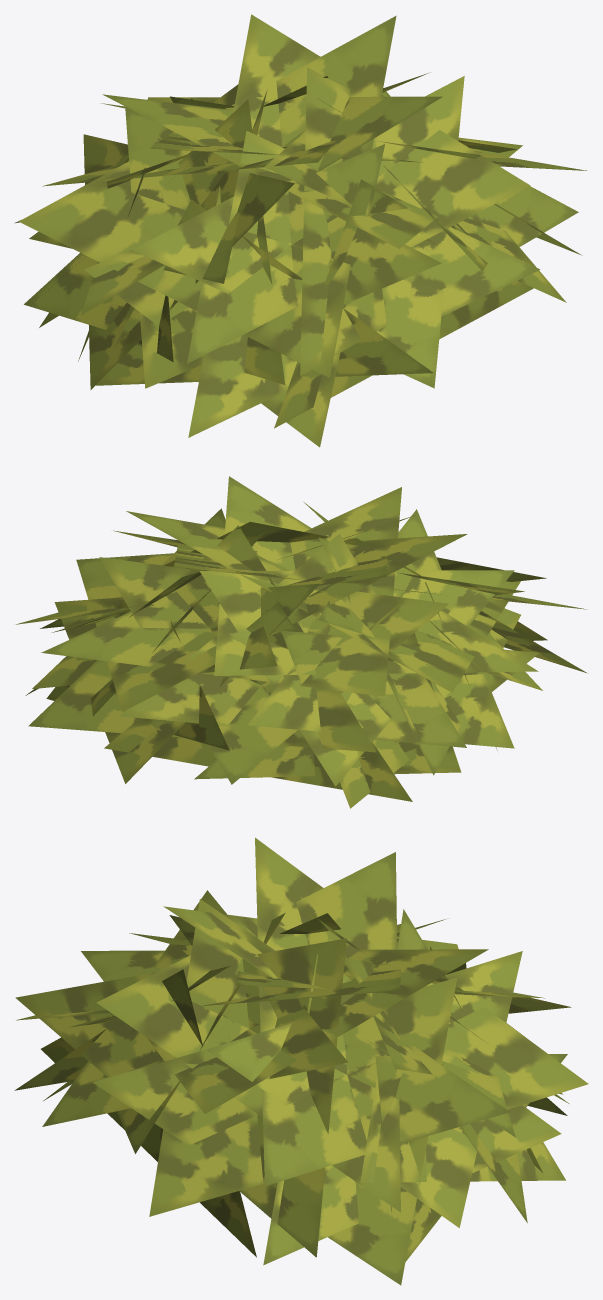
Rendered from Moss_Fern_Blob_3.fbx.
3 views of the same model, one above another, from view 1: azimuth 30°, elevation 25°; view 2: azimuth 150°, elevation 25°; view 3: azimuth 270°, elevation 25° (orthographic). The views are drawn at different scales.
Parts seen in each view (by area): view 1: Moss_Fern_Blob_3; view 2: Moss_Fern_Blob_3; view 3: Moss_Fern_Blob_3.
Part boxes in pixels (box(x1,y1,x2,y2)): Moss_Fern_Blob_3: box(14, 14, 587, 447); Moss_Fern_Blob_3: box(16, 476, 587, 808); Moss_Fern_Blob_3: box(14, 837, 588, 1285).
Bounding box in the file's own units: 85.88 × 36.87 × 80.43.
Materials: 1 (1 with a texture image).
